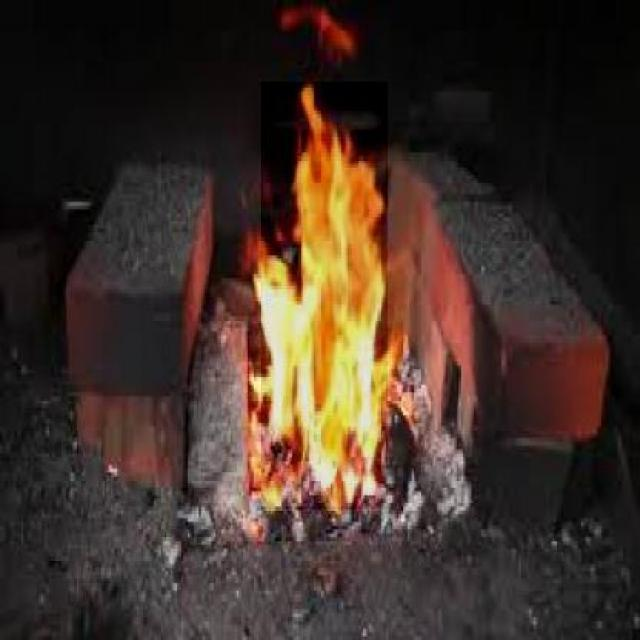fire: (253, 84, 404, 513)
